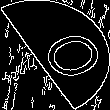O_SW: (14, 24, 96, 86)
